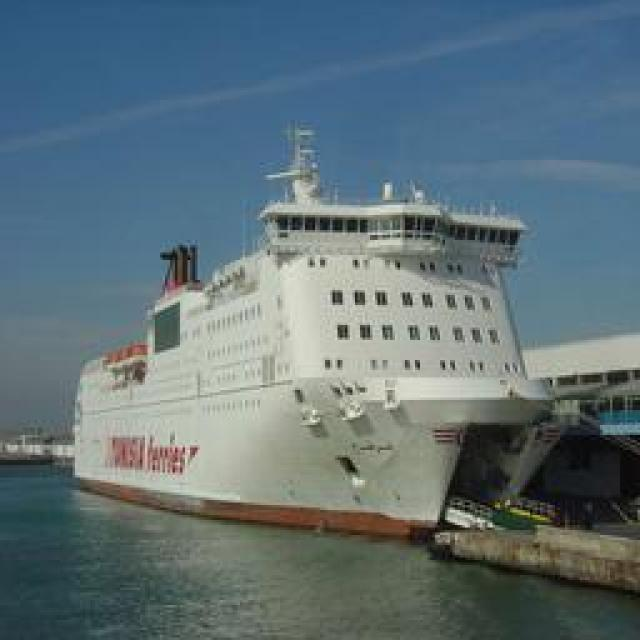ship2: (72, 124, 561, 542)
